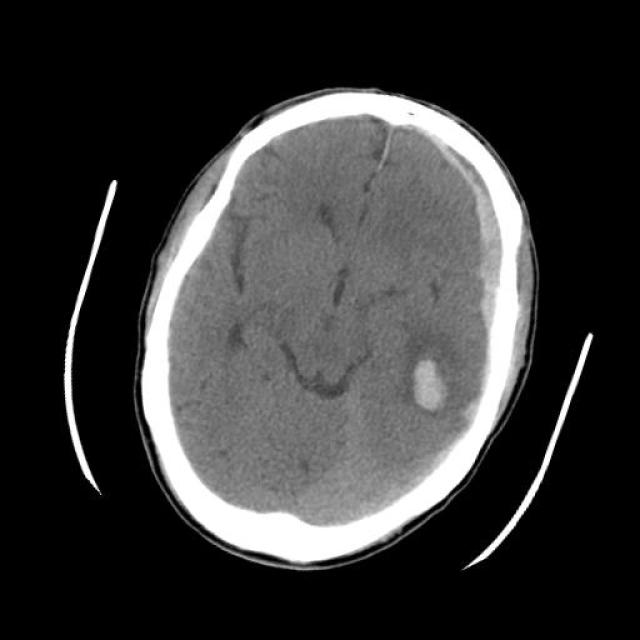Intraparenchymal: (366, 326, 455, 426)
Subdural: (357, 118, 606, 372), (454, 349, 508, 436)
